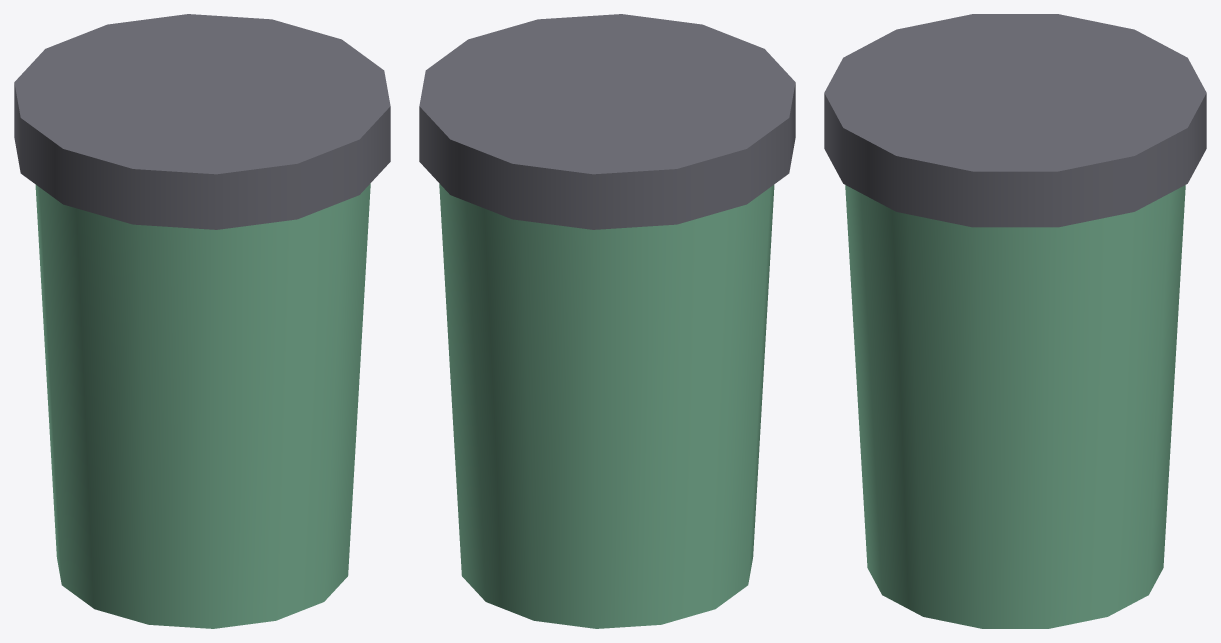
The model's file is tong0.glb.
3 renders of one model, left to right at view 1: azimuth 30°, elevation 25°; view 2: azimuth 150°, elevation 25°; view 3: azimuth 270°, elevation 25°, orthographic.
Parts seen in each view (by area): view 1: tong0; view 2: tong0; view 3: tong0.
Part boxes in pixels (bbox=[...]): tong0: bbox=[14, 14, 390, 628]; tong0: bbox=[419, 14, 795, 628]; tong0: bbox=[824, 14, 1206, 628].
Size of the model in its own units: 0.3022 by 0.425 by 0.31.
